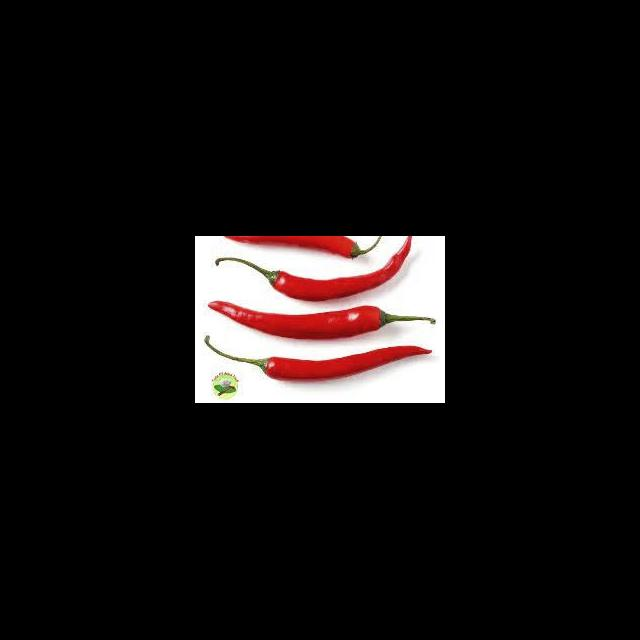chili_pepper: (206, 301, 436, 343), (239, 259, 445, 302), (265, 346, 434, 380), (224, 237, 381, 260)
